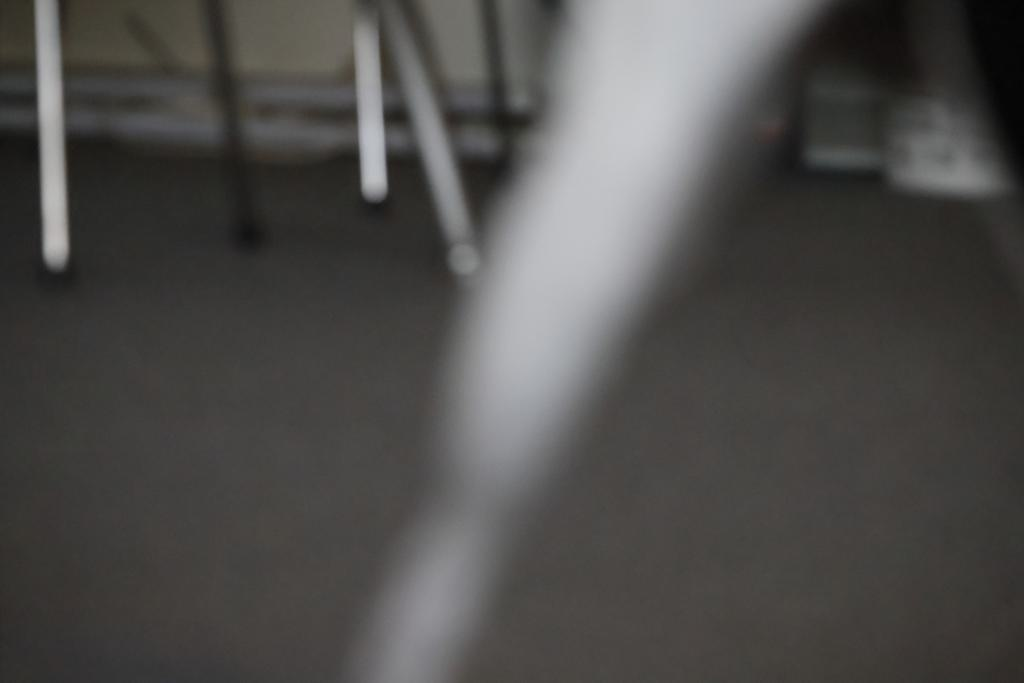Dog: (339, 0, 1024, 683)
